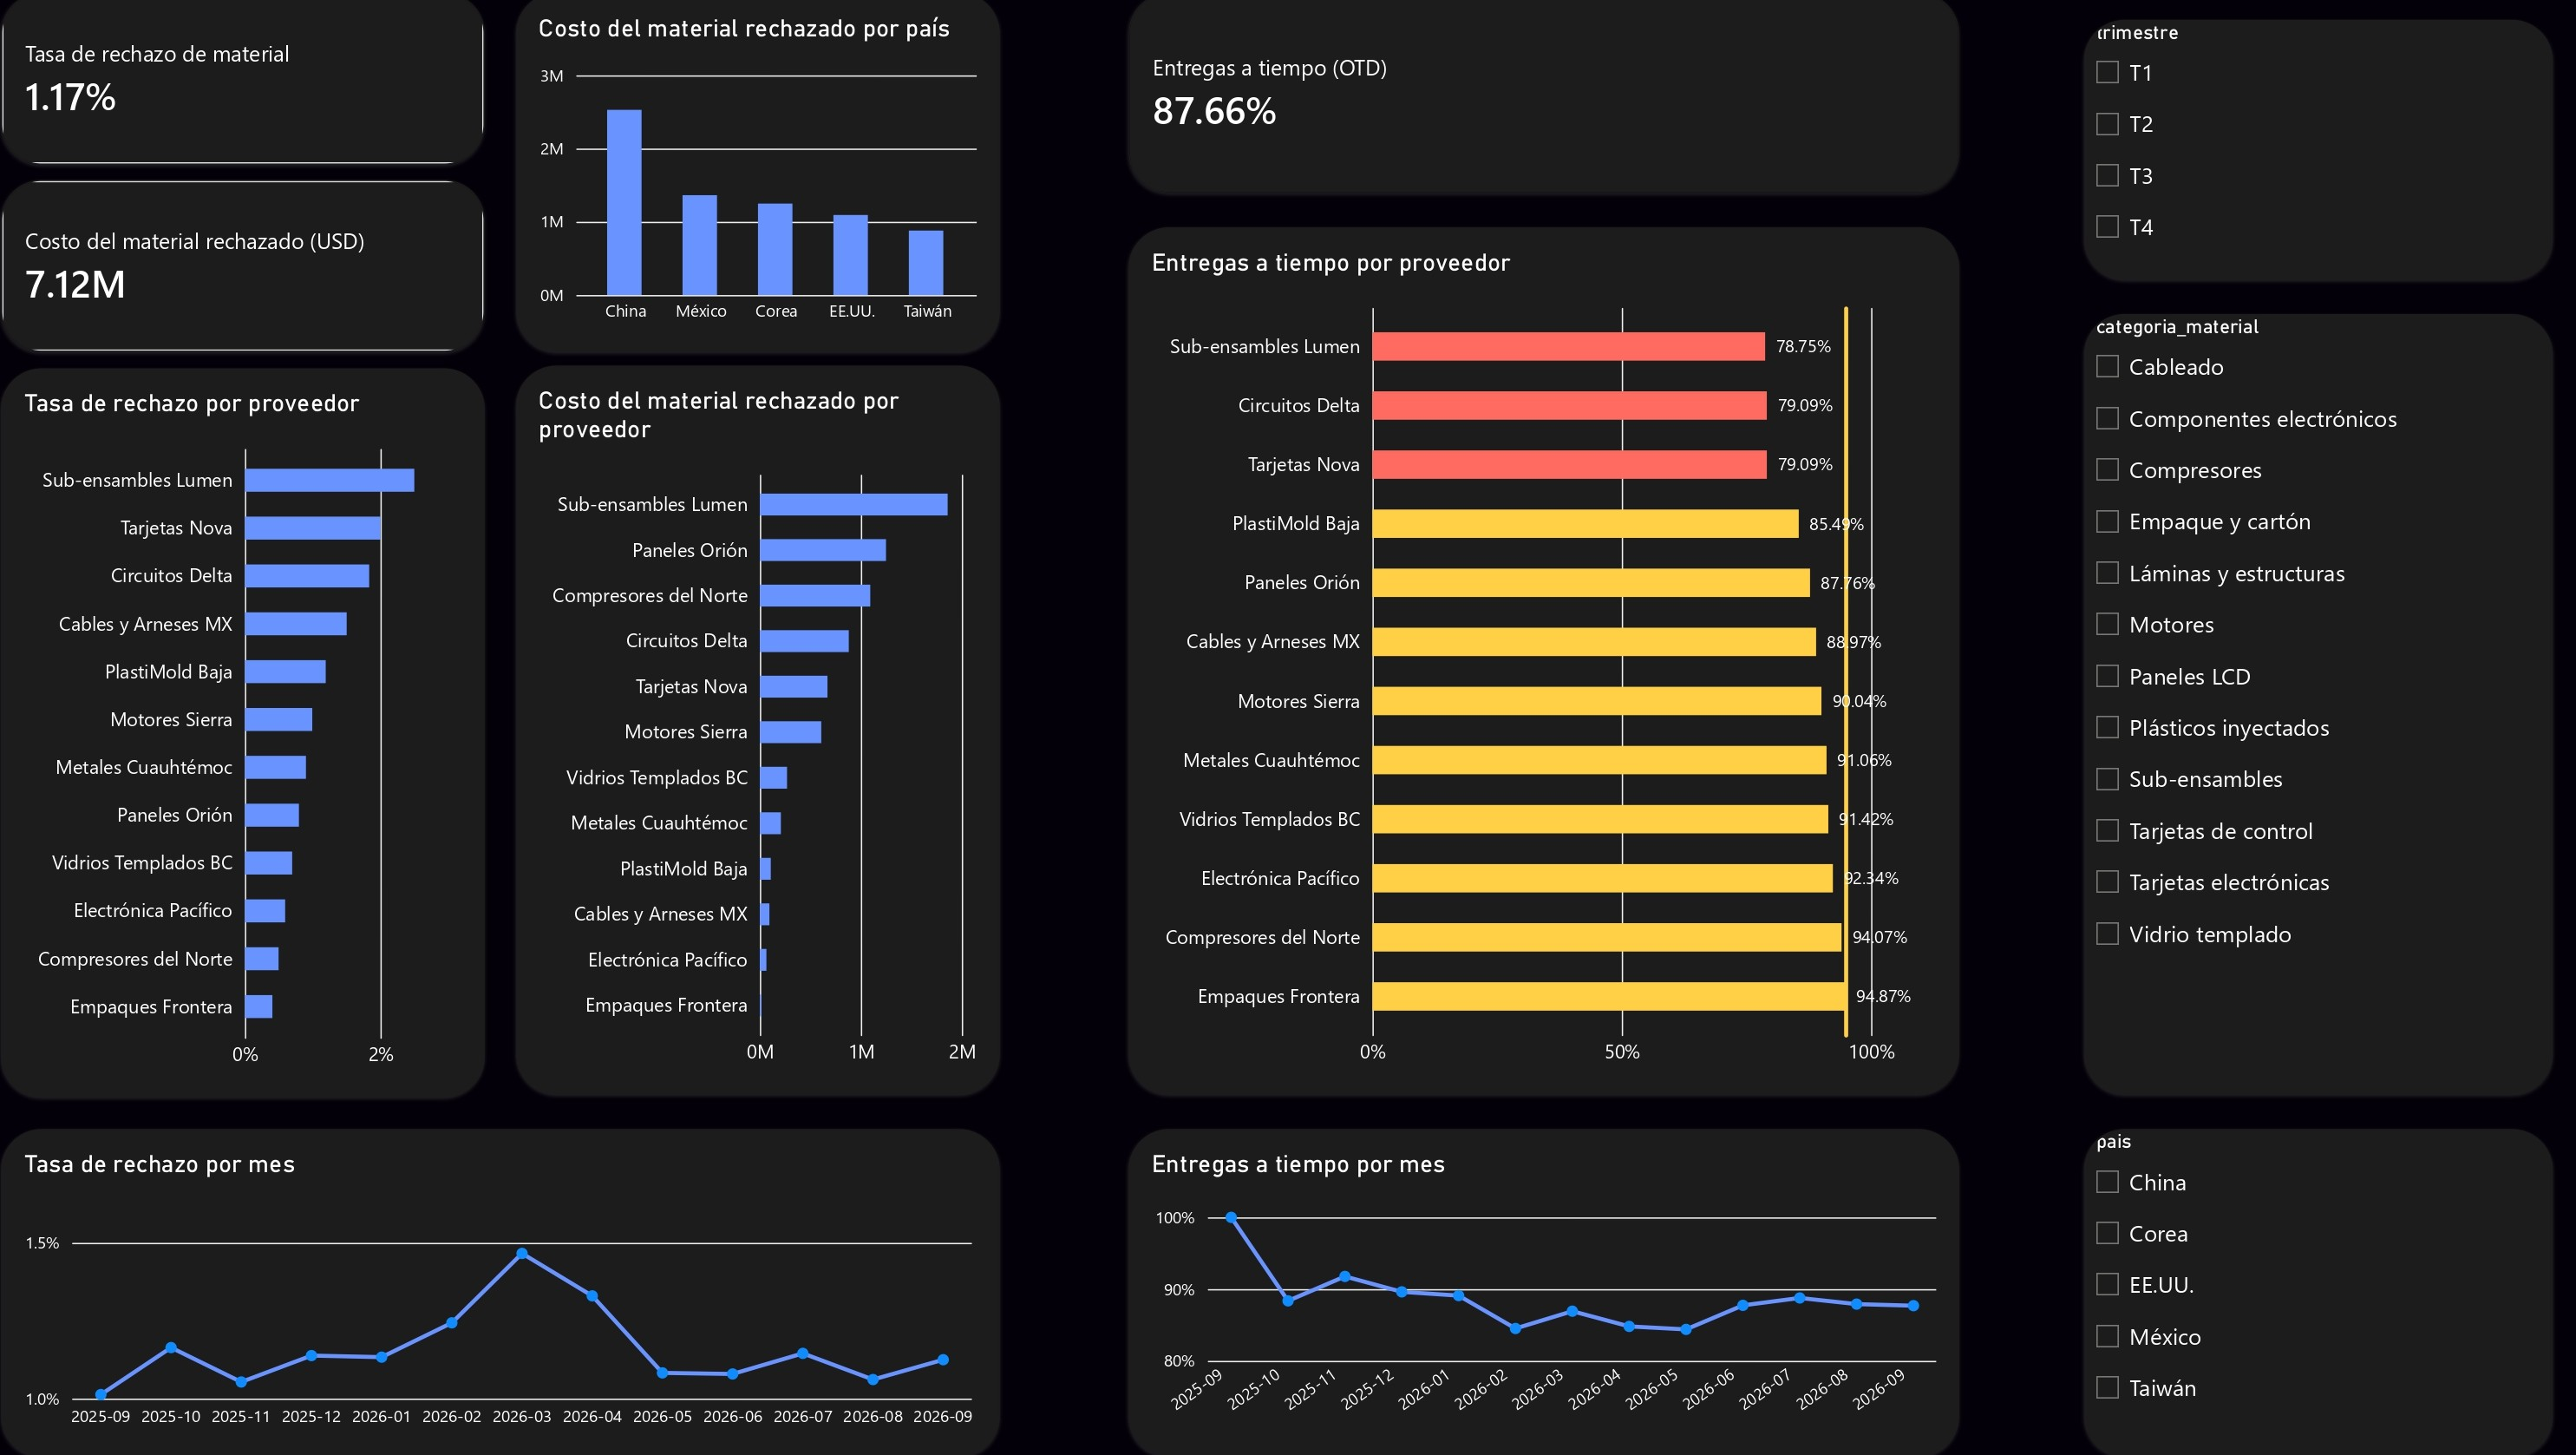

This screenshot's page, from the dashboard's own definition file:
{"tool":"powerbi","page":{"name":"Tasa de rechazo y OTD","canvas":[1920,1080],"ordinal":3},"visuals":[{"type":"cardVisual","fields":{"Data":["planta_analytics fact_entregas_proveedor.Tasa de rechazo"]},"box":[10,0,356.7,126.7],"z":0},{"type":"cardVisual","fields":{"Data":["planta_analytics fact_entregas_proveedor.Costo del material rechazado"]},"box":[10,138.3,356.7,126.7],"z":1000},{"type":"clusteredBarChart","title":"\tTasa de rechazo por proveedor","fields":{"Category":["planta_analytics dim_proveedor.proveedor"],"Y":["planta_analytics fact_entregas_proveedor.Tasa de rechazo"]},"box":[10,276.7,356.7,538.3],"z":2000},{"type":"clusteredBarChart","title":"Costo del material rechazado por proveedor","fields":{"Category":["planta_analytics dim_proveedor.proveedor"],"Y":["planta_analytics fact_entregas_proveedor.Costo del material rechazado"]},"box":[390,275,356.7,538.3],"z":3000},{"type":"lineChart","title":"Tasa de rechazo por mes","fields":{"Category":["planta_analytics dim_fecha.anio_mes"],"Y":["planta_analytics fact_entregas_proveedor.Tasa de rechazo"]},"box":[10,838.3,736.7,241.7],"z":4000},{"type":"clusteredColumnChart","title":"Costo del material rechazado por país","fields":{"Category":["planta_analytics dim_proveedor.pais"],"Y":["planta_analytics fact_entregas_proveedor.Costo del material rechazado"]},"box":[390,0,356.7,265],"z":5000},{"type":"slicer","fields":{"Values":["planta_analytics dim_proveedor.pais"]},"box":[1546.7,838.3,346.7,241.7],"z":6000},{"type":"slicer","fields":{"Values":["planta_analytics dim_proveedor.categoria_material"]},"box":[1546.7,236.7,346.7,576.7],"z":7000},{"type":"slicer","fields":{"Values":["planta_analytics dim_fecha.trimestre"]},"box":[1546.7,20,346.7,191.7],"z":8000},{"type":"clusteredBarChart","title":"Entregas a tiempo por proveedor","fields":{"Category":["planta_analytics dim_proveedor.proveedor"],"Y":["planta_analytics fact_entregas_proveedor.OTD"]},"box":[841.7,173.3,613.3,640],"z":9000},{"type":"lineChart","title":"Entregas a tiempo por mes","fields":{"Category":["planta_analytics dim_fecha.anio_mes"],"Y":["planta_analytics fact_entregas_proveedor.OTD"]},"box":[841.7,838.3,613.3,241.7],"z":10000},{"type":"cardVisual","fields":{"Data":["planta_analytics fact_entregas_proveedor.OTD"]},"box":[841.7,0,613.3,148.3],"z":11000}]}

Visuals, with their boxes in screenshot pixels (x1, y1, x2, y2), scaled from the page's 1920x1080 canvas onto the 2576x1455 screenshot:
cardVisual - planta_analytics fact_entregas_proveedor.Tasa de rechazo: pyautogui.locateOnScreen(13, 0, 492, 171)
cardVisual - planta_analytics fact_entregas_proveedor.Costo del material rechazado: pyautogui.locateOnScreen(13, 187, 492, 357)
"	Tasa de rechazo por proveedor" clusteredBarChart: pyautogui.locateOnScreen(13, 373, 492, 1098)
"Costo del material rechazado por proveedor" clusteredBarChart: pyautogui.locateOnScreen(523, 370, 1002, 1096)
"Tasa de rechazo por mes" lineChart: pyautogui.locateOnScreen(13, 1130, 1002, 1454)
"Costo del material rechazado por país" clusteredColumnChart: pyautogui.locateOnScreen(523, 0, 1002, 357)
slicer - planta_analytics dim_proveedor.pais: pyautogui.locateOnScreen(2076, 1130, 2540, 1454)
slicer - planta_analytics dim_proveedor.categoria_material: pyautogui.locateOnScreen(2076, 319, 2540, 1096)
slicer - planta_analytics dim_fecha.trimestre: pyautogui.locateOnScreen(2076, 27, 2540, 285)
"Entregas a tiempo por proveedor" clusteredBarChart: pyautogui.locateOnScreen(1129, 233, 1952, 1096)
"Entregas a tiempo por mes" lineChart: pyautogui.locateOnScreen(1129, 1130, 1952, 1454)
cardVisual - planta_analytics fact_entregas_proveedor.OTD: pyautogui.locateOnScreen(1129, 0, 1952, 200)
